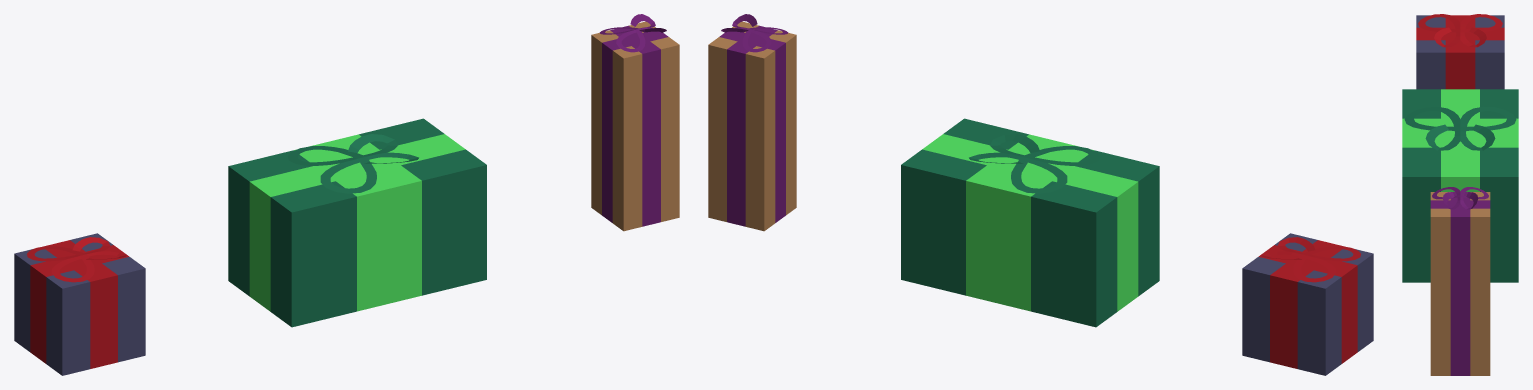
File: Presents.fbx
The picture shows the model from 3 angles, left to right: view 1: azimuth 30°, elevation 25°; view 2: azimuth 150°, elevation 25°; view 3: azimuth 270°, elevation 25°; orthographic projection. The views are drawn at different scales.
Parts seen in each view (by area): view 1: Present2, Present3, Present; view 2: Present2, Present3, Present; view 3: Present2, Present3, Present.
Part boxes in pixels (<box>): Present2: <box>228,118,486,327</box>; Present3: <box>591,14,679,231</box>; Present: <box>14,233,145,375</box>; Present2: <box>901,118,1159,327</box>; Present3: <box>708,14,796,231</box>; Present: <box>1242,233,1373,375</box>; Present2: <box>1402,89,1518,282</box>; Present3: <box>1430,187,1490,375</box>; Present: <box>1416,14,1504,89</box>.
Size of the model in its own units: 225 by 39.53 by 64.9.
